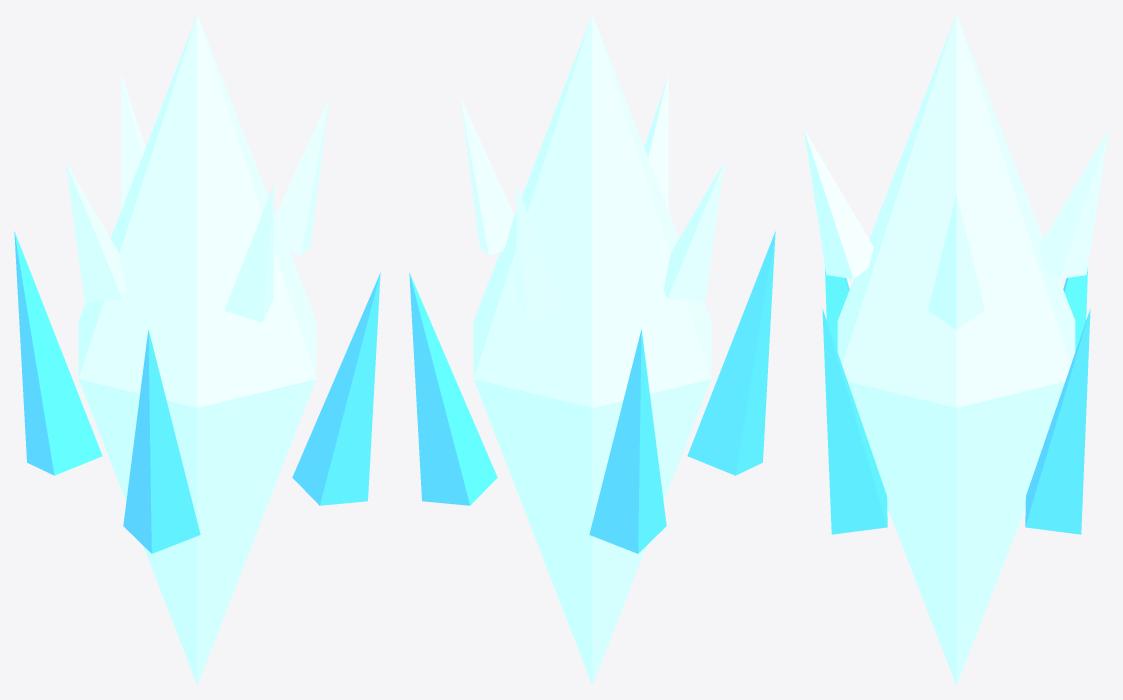
Rendered from rime_spire_head.glb.
The picture shows the model from 3 angles, left to right: view 1: azimuth 30°, elevation 25°; view 2: azimuth 150°, elevation 25°; view 3: azimuth 270°, elevation 25°; orthographic projection.
Parts seen in each view (by area): view 1: rime_spire_head; view 2: rime_spire_head; view 3: rime_spire_head.
Boxes of the visible parts, x1,y1,x2,y2 form: rime_spire_head: (14,14,380,685); rime_spire_head: (409,14,775,685); rime_spire_head: (804,14,1108,685).
Bounding box in the file's own units: 0.2665 × 0.648 × 0.2665.
